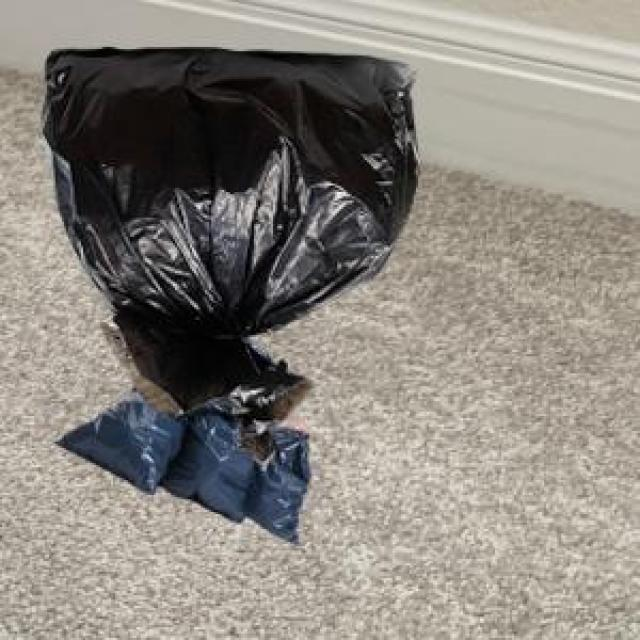waste: (44, 48, 418, 542)
